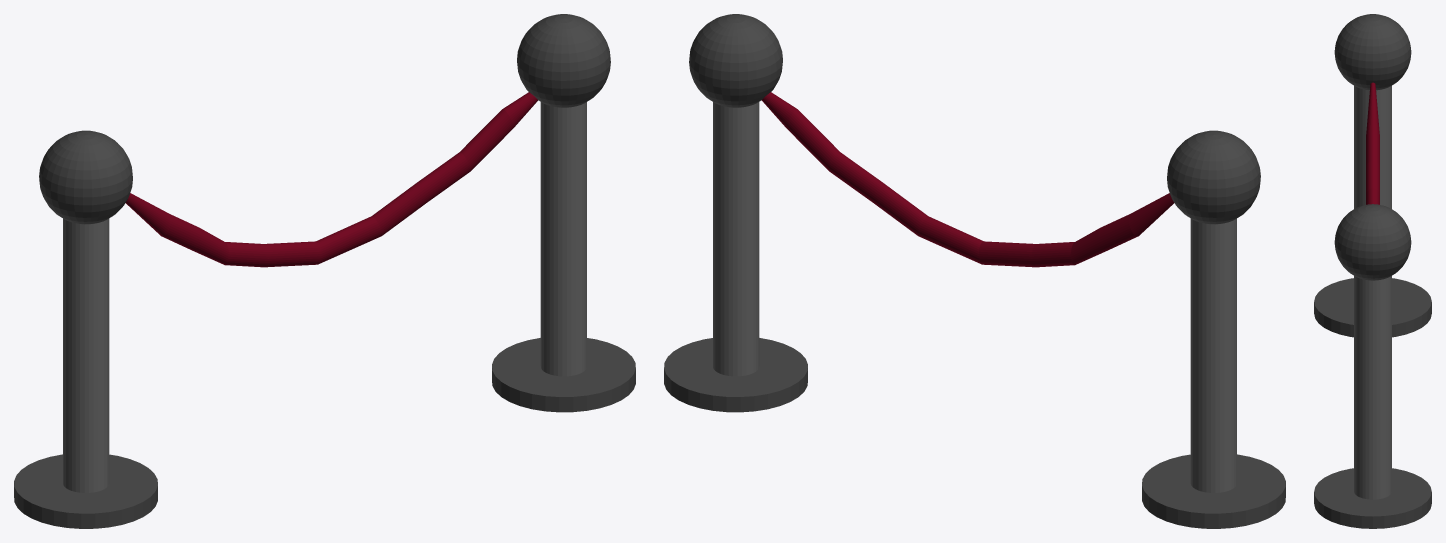
The model's file is fince.fbx.
3 views of the same model, side by side, from view 1: azimuth 30°, elevation 25°; view 2: azimuth 150°, elevation 25°; view 3: azimuth 270°, elevation 25° (orthographic). The views are drawn at different scales.
Parts seen in each view (by area): view 1: Cylinder.001, Cylinder, Cone, Sphere, Sphere.001; view 2: Cylinder.001, Cylinder, Cone, Sphere, Sphere.001; view 3: Cylinder.001, Cylinder, Sphere.001, Sphere, Cone.
Part boxes in pixels (x1,y1,x2,y2): Cylinder.001: [492, 102, 635, 412]; Cylinder: [14, 218, 157, 528]; Cone: [125, 92, 538, 267]; Sphere: [39, 130, 132, 224]; Sphere.001: [517, 14, 610, 107]; Cylinder.001: [664, 102, 807, 412]; Cylinder: [1142, 218, 1285, 528]; Cone: [761, 92, 1174, 267]; Sphere: [1167, 130, 1260, 224]; Sphere.001: [689, 14, 782, 107]; Cylinder.001: [1314, 276, 1431, 528]; Cylinder: [1314, 86, 1431, 337]; Sphere.001: [1334, 204, 1411, 280]; Sphere: [1334, 14, 1411, 90]; Cone: [1366, 82, 1379, 204].
Size of the model in its own units: 965 by 556 by 200.
